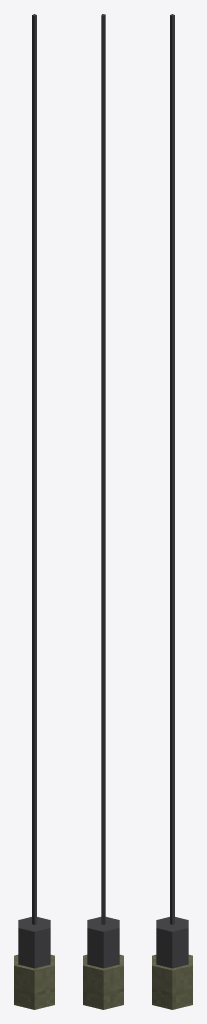
Rendered from fb_hanging_bulb.glb.
The picture shows the model from 3 angles, left to right: view 1: azimuth 90°, elevation 25°; view 2: azimuth 210°, elevation 25°; view 3: azimuth 270°, elevation 25°; orthographic projection.
Parts seen in each view (by area): view 1: fb_hanging_bulb; view 2: fb_hanging_bulb; view 3: fb_hanging_bulb.
Boxes of the visible parts, left/top/right/bottom form: fb_hanging_bulb: left=14, top=14, right=54, bottom=1009; fb_hanging_bulb: left=83, top=14, right=123, bottom=1009; fb_hanging_bulb: left=152, top=14, right=192, bottom=1009.
Size of what is drawn, in the model's own units: 0.076 by 1.75 by 0.0658.
2 materials, 1 textured.
